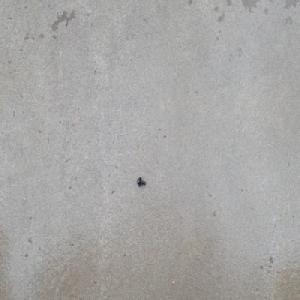BoltWasher: (136, 176, 146, 187)
